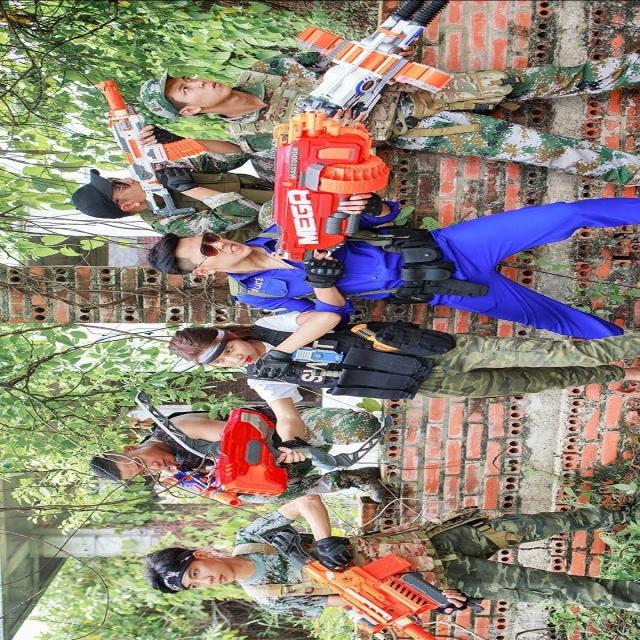Nerf gun: (254, 523, 471, 637), (261, 114, 400, 278), (286, 0, 462, 119), (90, 81, 210, 218), (210, 403, 302, 497), (152, 470, 246, 506)
